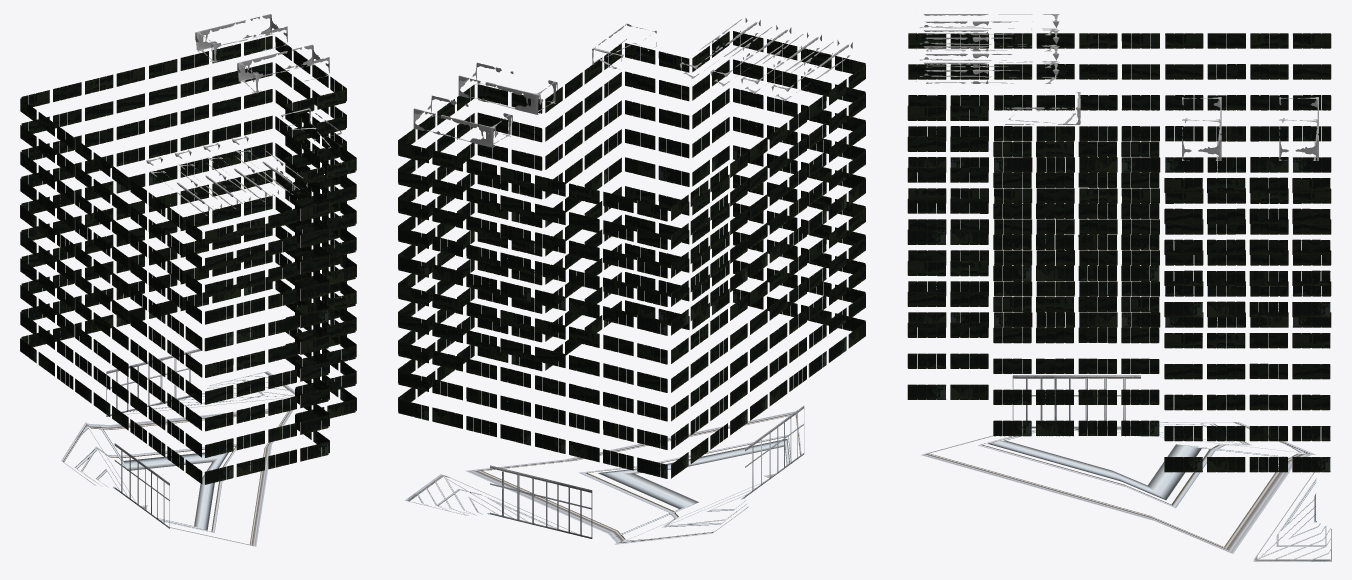
The model's file is si_building_13.fbx.
3 views of the same model, side by side, from view 1: azimuth 30°, elevation 25°; view 2: azimuth 150°, elevation 25°; view 3: azimuth 270°, elevation 25° (orthographic). The views are drawn at different scales.
Parts seen in each view (by area): view 1: si_building_13; view 2: si_building_13; view 3: si_building_13.
Boxes of the visible parts, left/top/right/bottom form: si_building_13: left=20, top=14, right=356, bottom=546; si_building_13: left=398, top=18, right=865, bottom=544; si_building_13: left=907, top=14, right=1331, bottom=561.
Bounding box in the file's own units: 82 × 109 × 102.
1 material, 1 textured.
